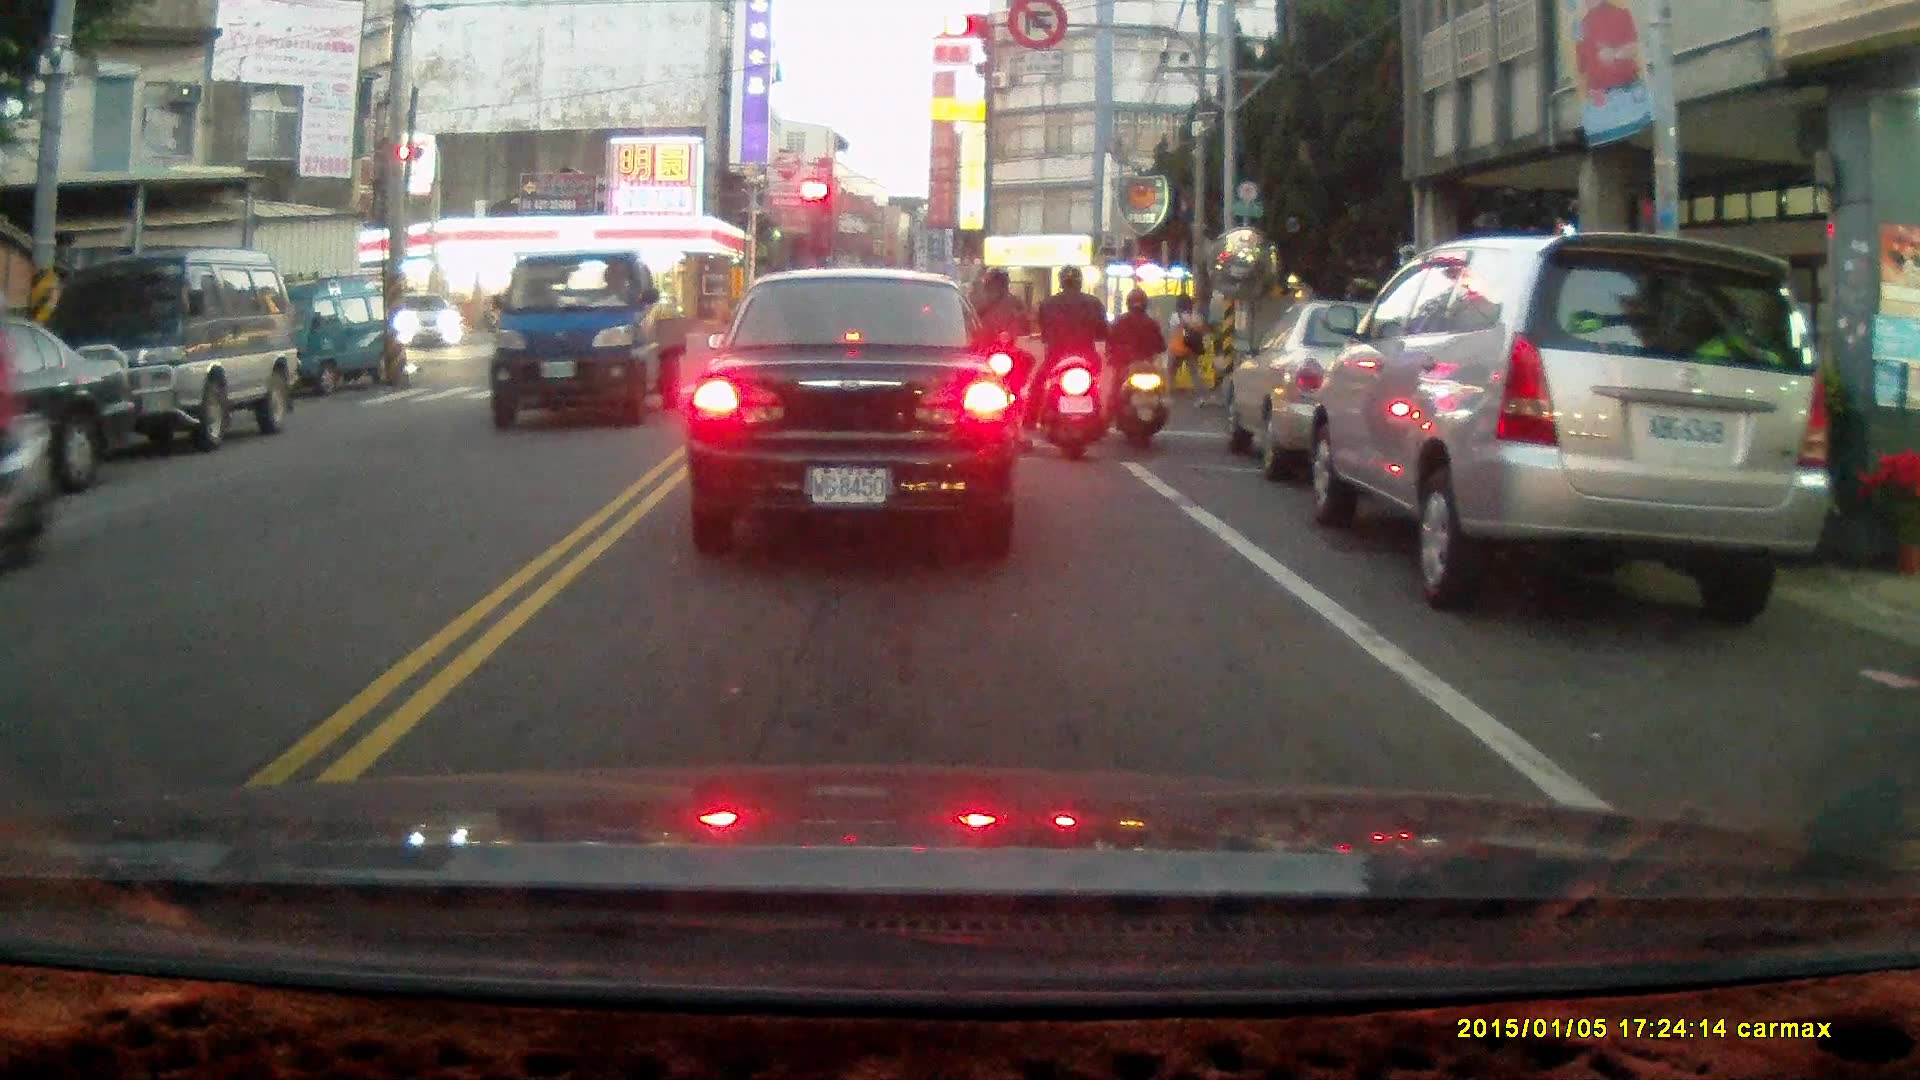pedestrian: (1159, 289, 1212, 410)
rider: (1025, 263, 1119, 460), (0, 276, 61, 580), (963, 266, 1033, 442), (1106, 284, 1172, 448)
vehicle: (1316, 227, 1845, 618), (686, 265, 1024, 552), (39, 242, 297, 453), (1228, 300, 1489, 487), (492, 250, 688, 421), (1, 315, 142, 495), (261, 271, 417, 402)
